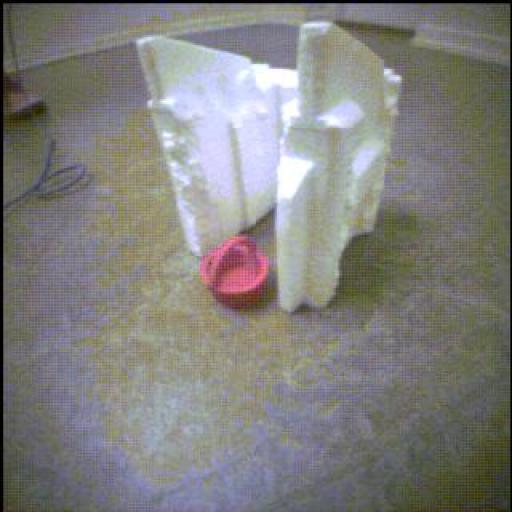Bucket: (201, 235, 270, 308)
